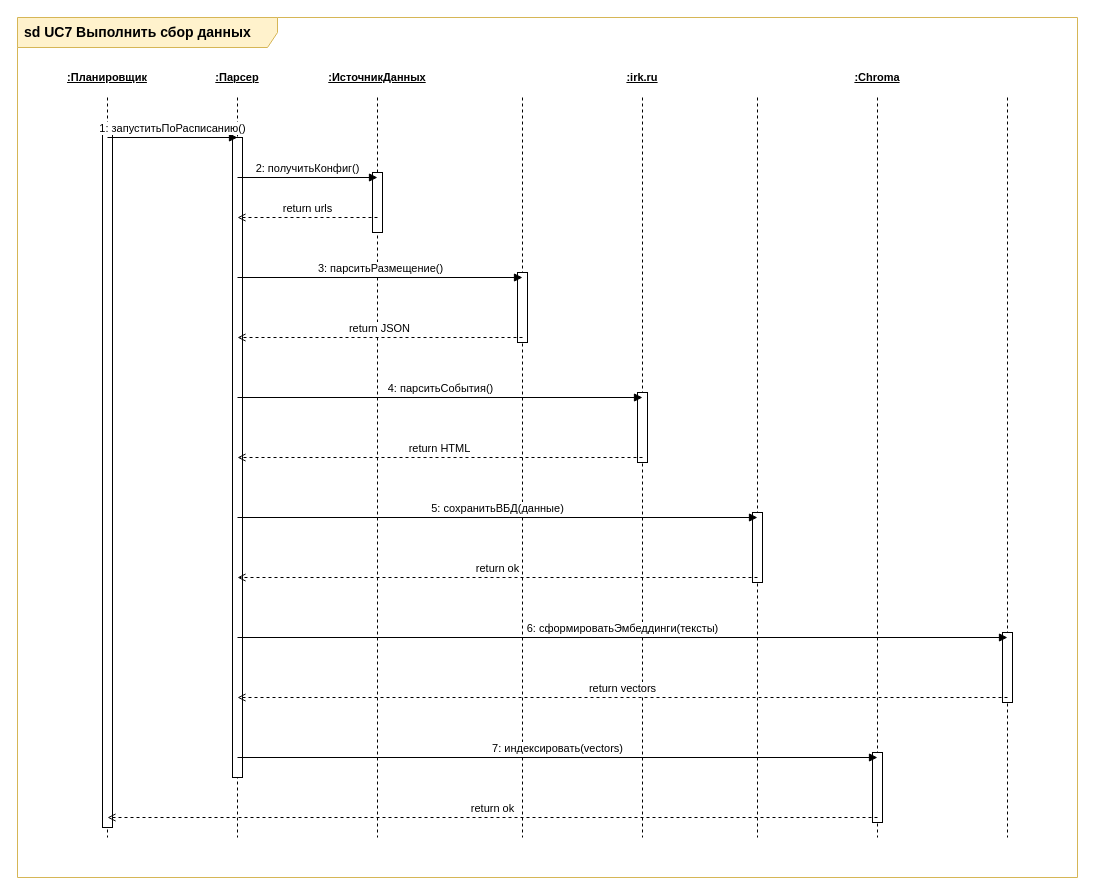
This 1095x895 diagram has some shape labels left out. The shapes that lost their labels are listed below. From the top down, each one's box as (x1, y1, x2, y2) in pixels, then its label:
(476, 56, 568, 838): :101Hotels
(716, 56, 798, 838): :YDB
(956, 56, 1058, 838): :GigaEmbeddings
